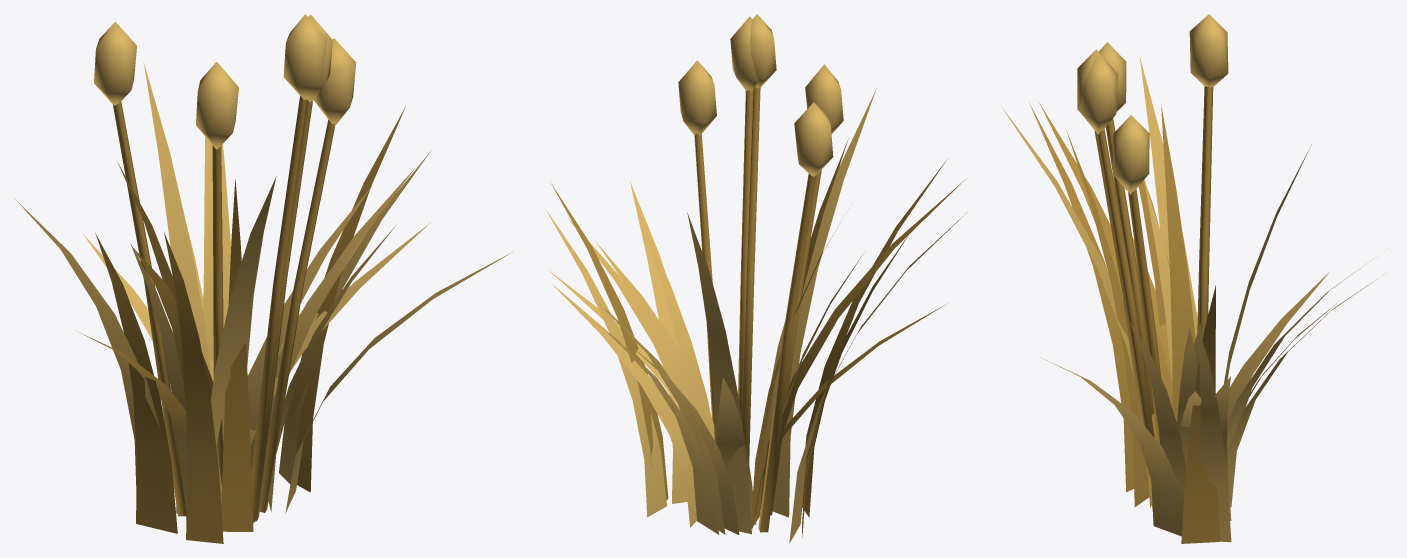
The model's file is SD_V01_DryGrassTuft.fbx.
3 views of the same model, side by side, from view 1: azimuth 30°, elevation 25°; view 2: azimuth 150°, elevation 25°; view 3: azimuth 270°, elevation 25° (orthographic). The views are drawn at different scales.
Visible parts, largest first — view 1: SD_V01_DryGrassTuft; view 2: SD_V01_DryGrassTuft; view 3: SD_V01_DryGrassTuft.
Part boxes in pixels (<box>): SD_V01_DryGrassTuft: <box>14,14,513,543</box>; SD_V01_DryGrassTuft: <box>545,14,967,543</box>; SD_V01_DryGrassTuft: <box>1001,14,1382,543</box>.
Bounding box in the file's own units: 64.07 × 71.59 × 53.85.
